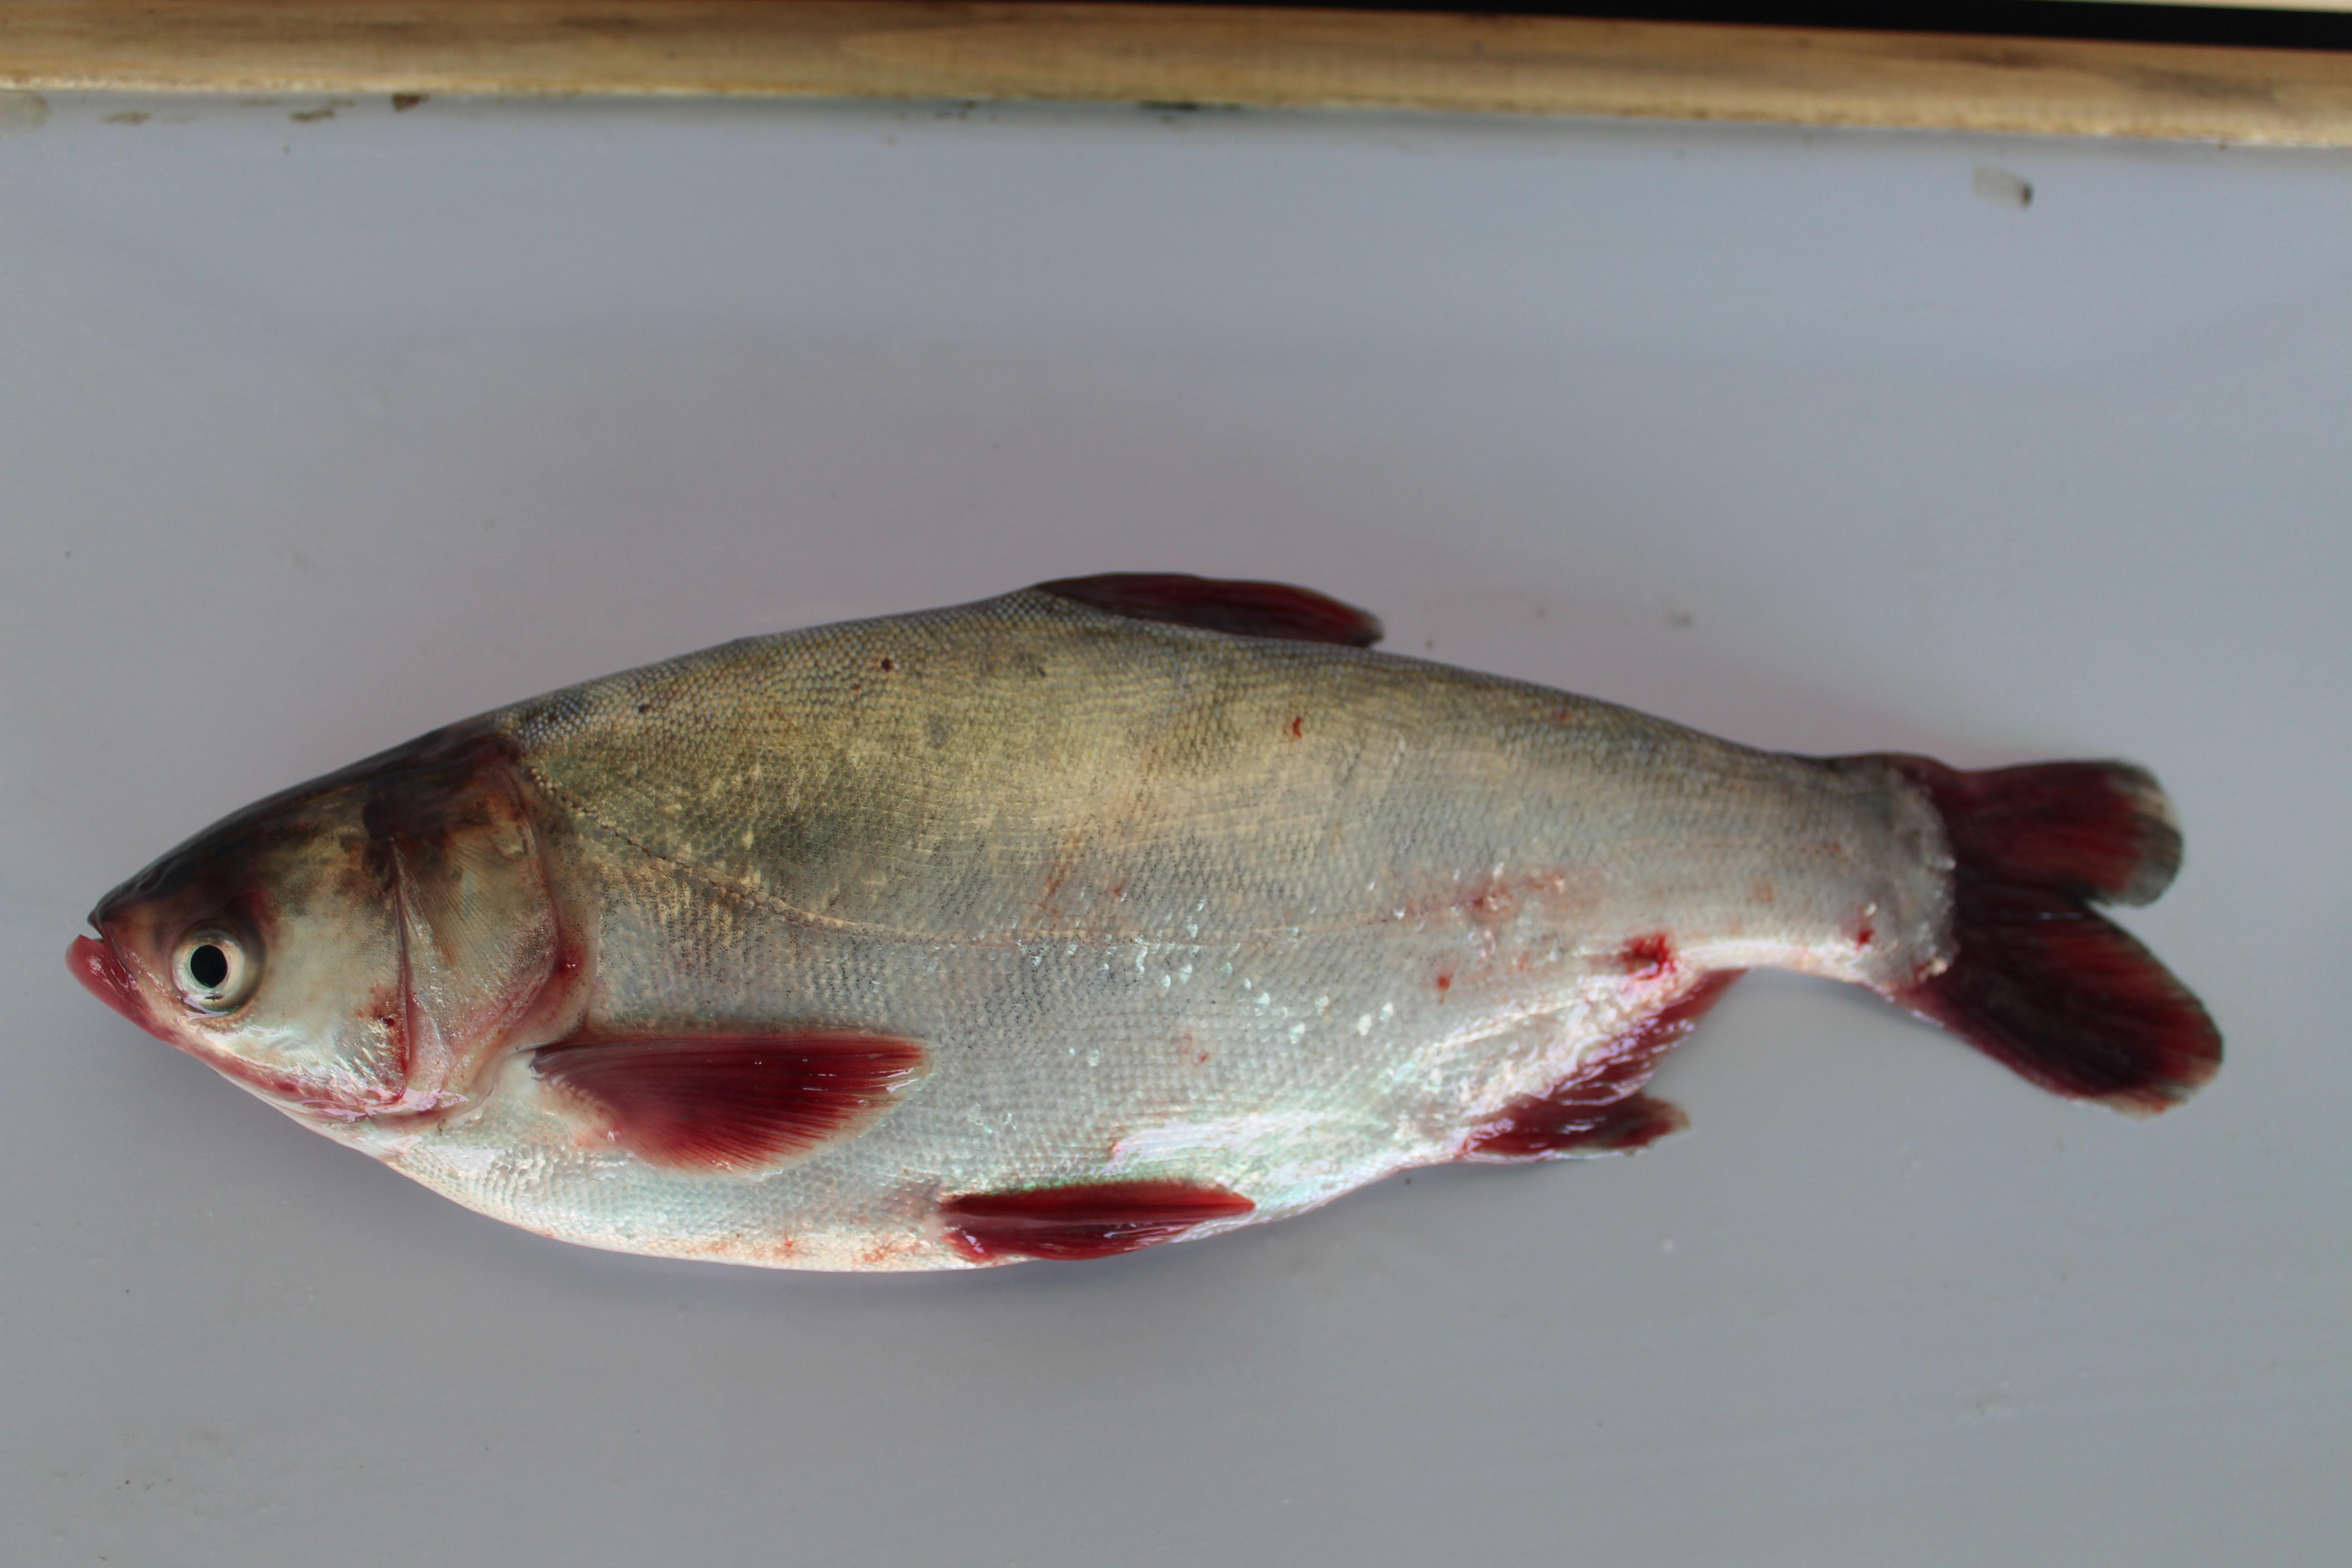Silver Carp: (61, 576, 2214, 1262)
